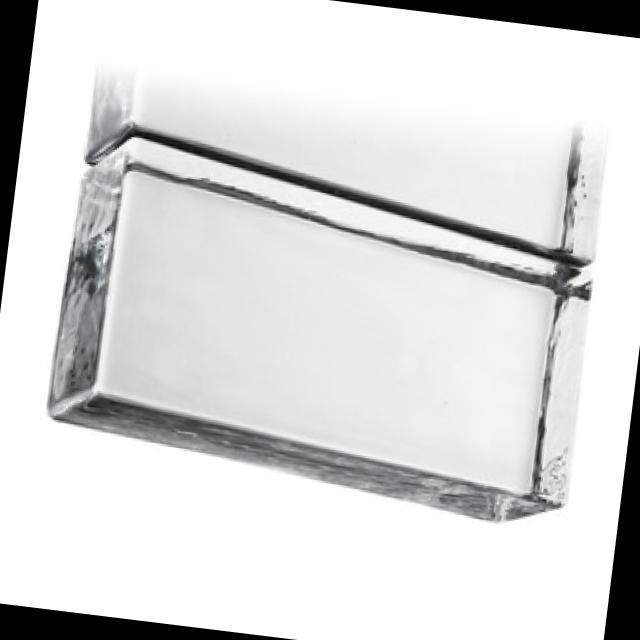glass: (29, 108, 630, 582)
